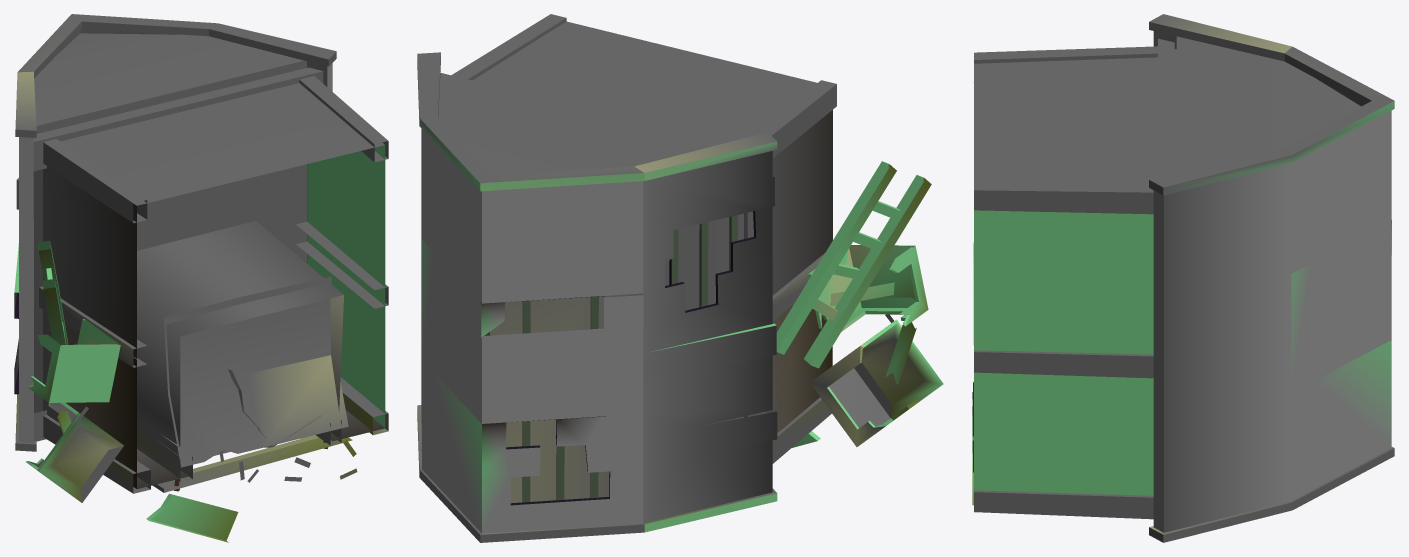
Rendered from B_Barn_Abandoned.fbx.
3 renders of one model, left to right at view 1: azimuth 30°, elevation 25°; view 2: azimuth 150°, elevation 25°; view 3: azimuth 270°, elevation 25°, orthographic. The views are drawn at different scales.
Parts seen in each view (by area): view 1: B_Barn_Abandoned; view 2: B_Barn_Abandoned; view 3: B_Barn_Abandoned.
Part boxes in pixels (x1,y1,x2,y2): B_Barn_Abandoned: [14, 14, 388, 542]; B_Barn_Abandoned: [417, 14, 943, 542]; B_Barn_Abandoned: [972, 14, 1394, 542].
Bounding box in the file's own units: 6.29 × 5.96 × 5.41.
